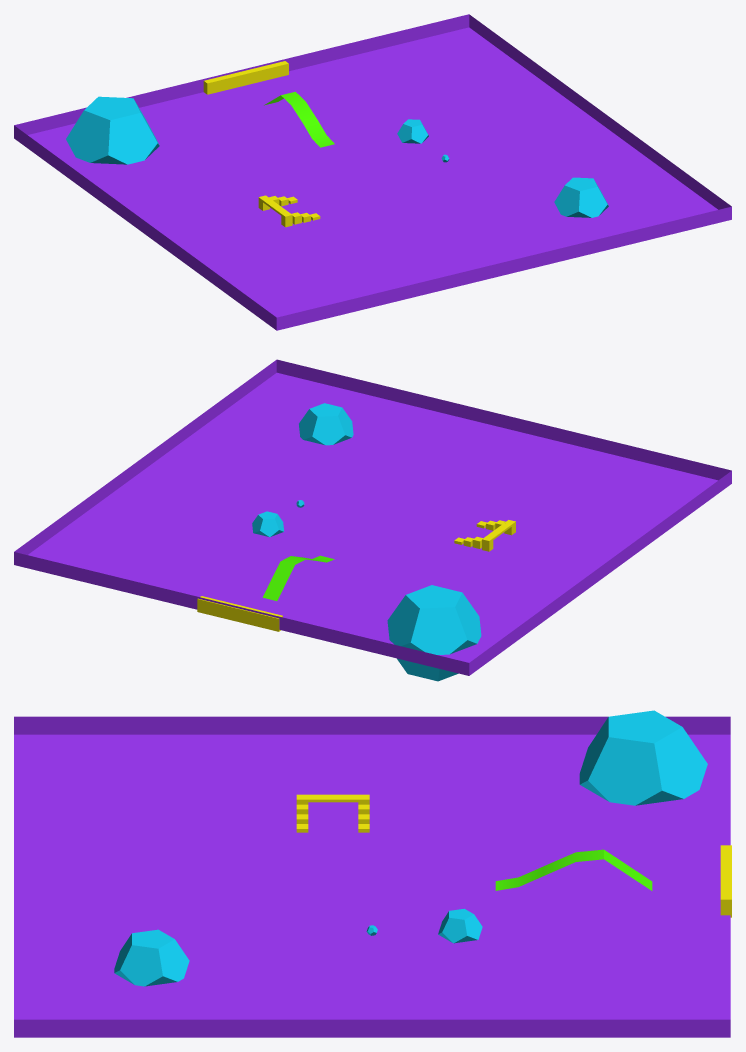
File: w9bounds.fbx
The picture shows the model from 3 angles, top to bottom: view 1: azimuth 30°, elevation 25°; view 2: azimuth 150°, elevation 25°; view 3: azimuth 270°, elevation 25°; orthographic projection. The views are drawn at different scales.
Visible parts, largest first — view 1: cube, dodecahedron3, dodecahedron2, cube5, grid, dodecahedron1; view 2: cube, dodecahedron3, dodecahedron2, cube5, grid, dodecahedron1; view 3: cube, dodecahedron3, dodecahedron2, grid, dodecahedron1, cube5.
Part boxes in pixels (x1,y1,x2,y2): cube: (14,14,731,330); dodecahedron3: (66,96,159,164); dodecahedron2: (554,177,608,217); cube5: (203,61,288,94); grid: (264,91,334,147); dodecahedron1: (397,119,428,143); cube: (14,359,731,675); dodecahedron3: (387,585,481,681); dodecahedron2: (299,403,353,445); cube5: (197,596,282,631); grid: (262,555,334,600); dodecahedron1: (252,511,283,537); cube: (14,716,730,1037); dodecahedron3: (579,710,707,805); dodecahedron2: (114,929,189,986); grid: (495,849,652,890); dodecahedron1: (438,908,482,943); cube5: (720,845,731,917).
Size of the model in its own units: 500 by 74.79 by 501.
